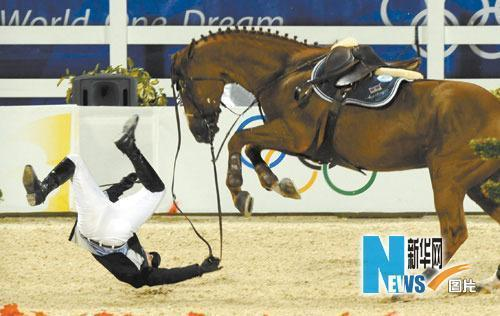Fall-Detected: (4, 109, 231, 292)
